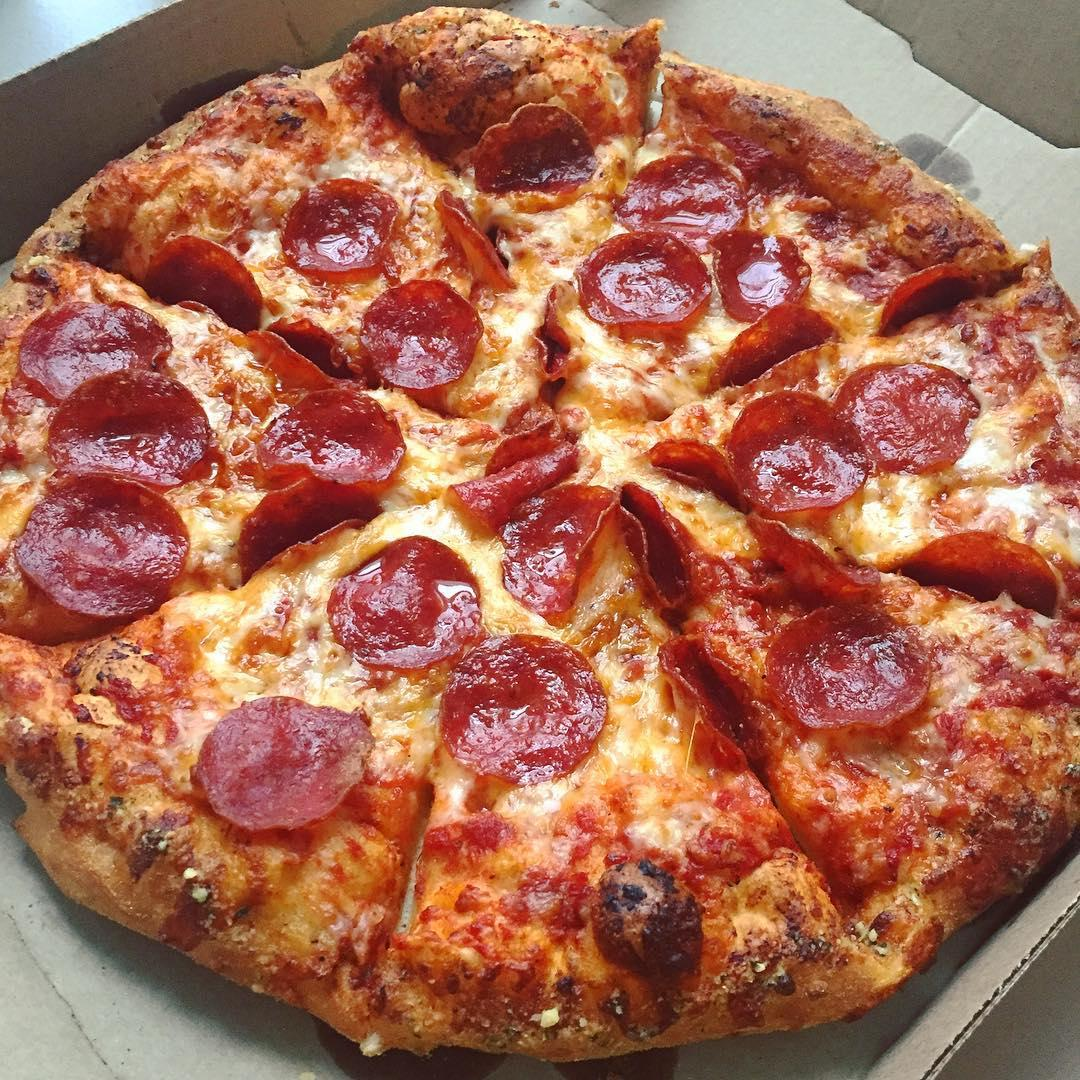Pepperoni: (3, 462, 203, 637), (188, 690, 381, 845), (446, 625, 611, 795), (756, 592, 937, 743), (38, 360, 225, 499), (326, 530, 491, 687), (436, 393, 603, 530), (828, 347, 985, 487), (726, 387, 879, 521), (248, 379, 413, 491), (903, 512, 1075, 619), (356, 267, 489, 405), (566, 222, 717, 339), (603, 142, 759, 255), (18, 292, 177, 401), (498, 481, 619, 624), (588, 475, 701, 623), (230, 473, 389, 575), (135, 220, 275, 333), (273, 162, 407, 279), (646, 637, 753, 783), (708, 192, 829, 313), (733, 512, 881, 605), (703, 297, 841, 389), (423, 179, 529, 295), (868, 252, 989, 349), (643, 430, 761, 527), (240, 302, 357, 393)
Pizza: (0, 9, 1080, 1071)
